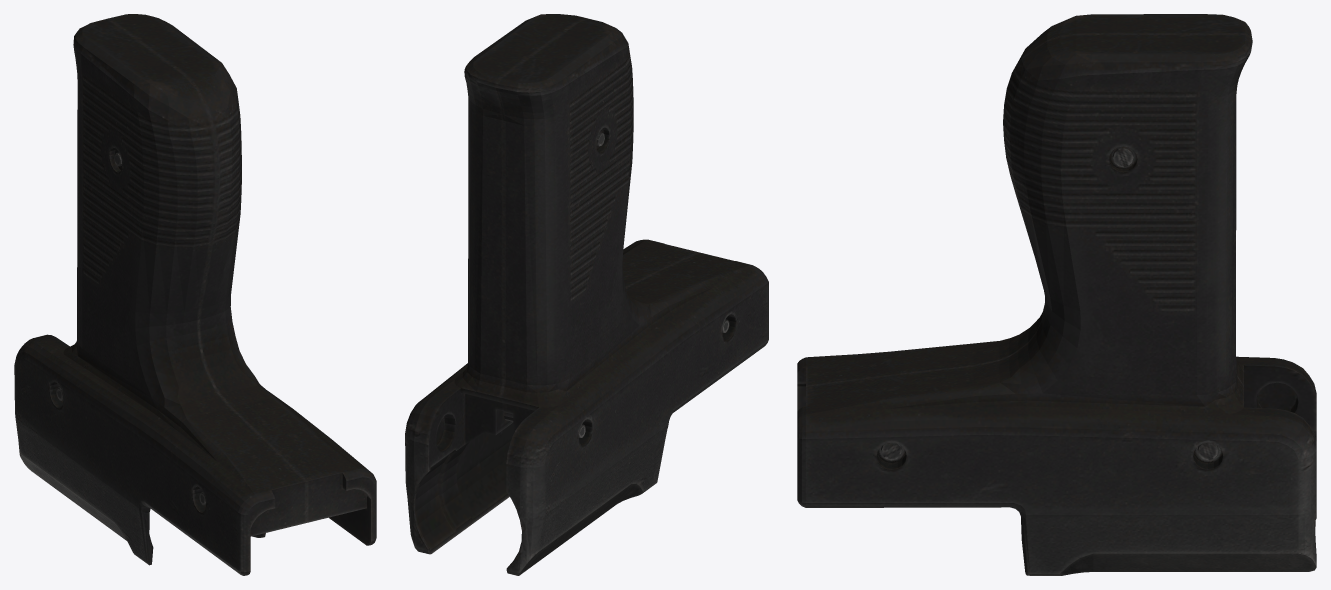
The picture shows the model from 3 angles, left to right: view 1: azimuth 30°, elevation 25°; view 2: azimuth 150°, elevation 25°; view 3: azimuth 270°, elevation 25°; orthographic projection. The views are drawn at different scales.
Parts seen in each view (by area): view 1: TW_6699313af74fef4dfd0b04f6_PZ_Import; view 2: TW_6699313af74fef4dfd0b04f6_PZ_Import; view 3: TW_6699313af74fef4dfd0b04f6_PZ_Import.
Part boxes in pixels (<box>): TW_6699313af74fef4dfd0b04f6_PZ_Import: <box>14,14,376,575</box>; TW_6699313af74fef4dfd0b04f6_PZ_Import: <box>405,14,768,575</box>; TW_6699313af74fef4dfd0b04f6_PZ_Import: <box>797,14,1316,575</box>.
Bounding box in the file's own units: 0.0248 × 0.0733 × 0.0797.
1 material, 1 textured.
